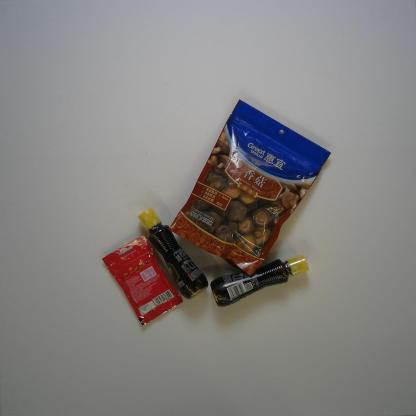Candy: (101, 235, 184, 328)
Dried Food: (167, 98, 332, 279)
Seasoner: (138, 206, 210, 301), (210, 253, 309, 308)
